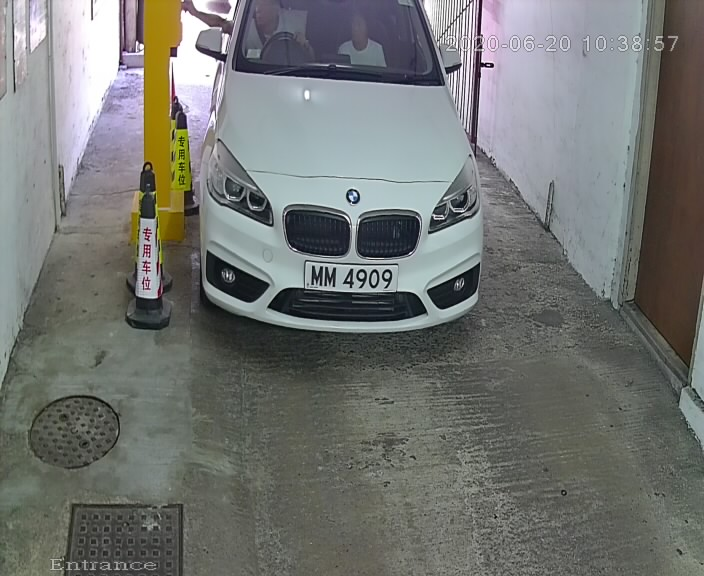privatecar: (189, 3, 499, 372)
